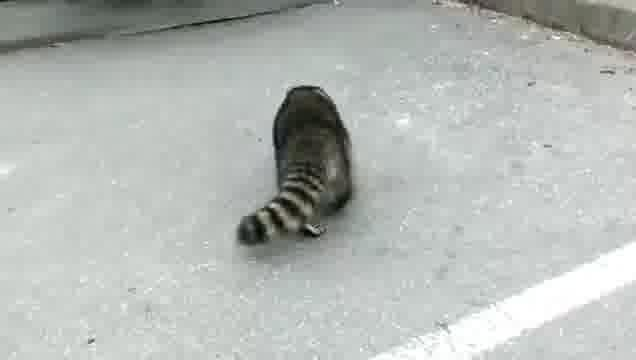raccoon: (236, 82, 355, 249)
